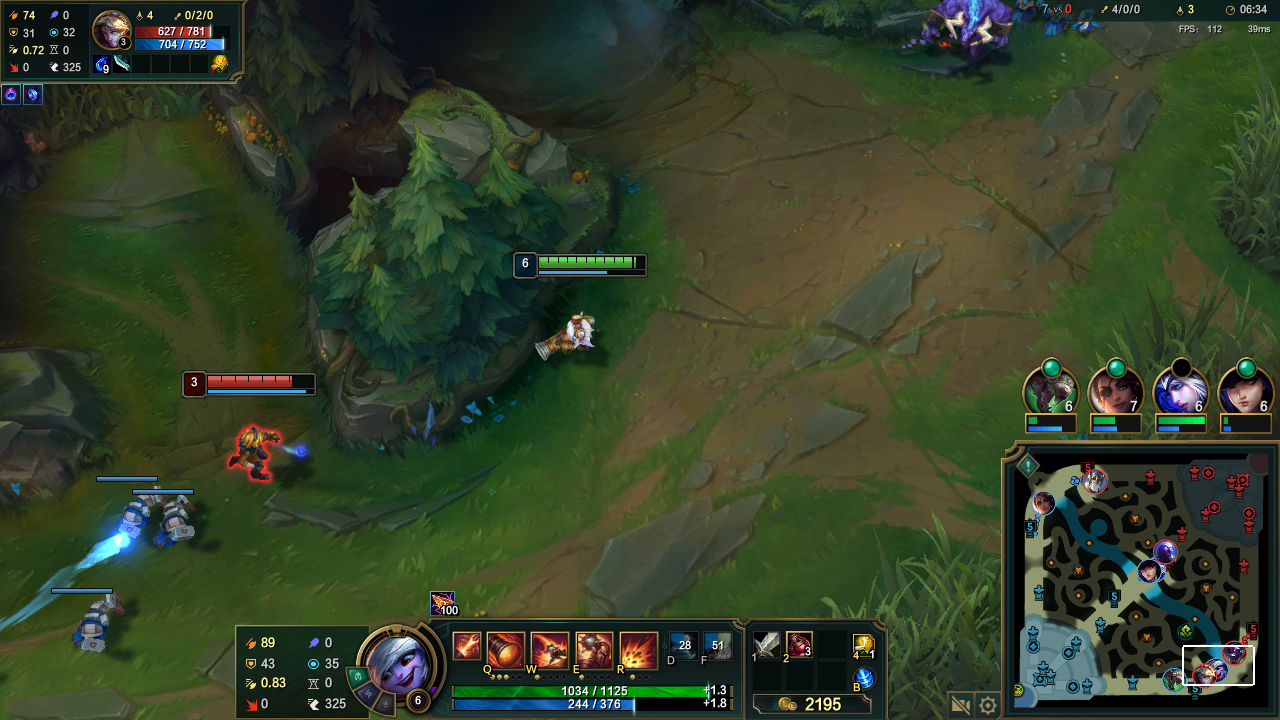DFYX: (202, 379, 306, 396)
WFXB: (55, 595, 129, 660), (147, 501, 203, 561), (113, 485, 160, 538)
